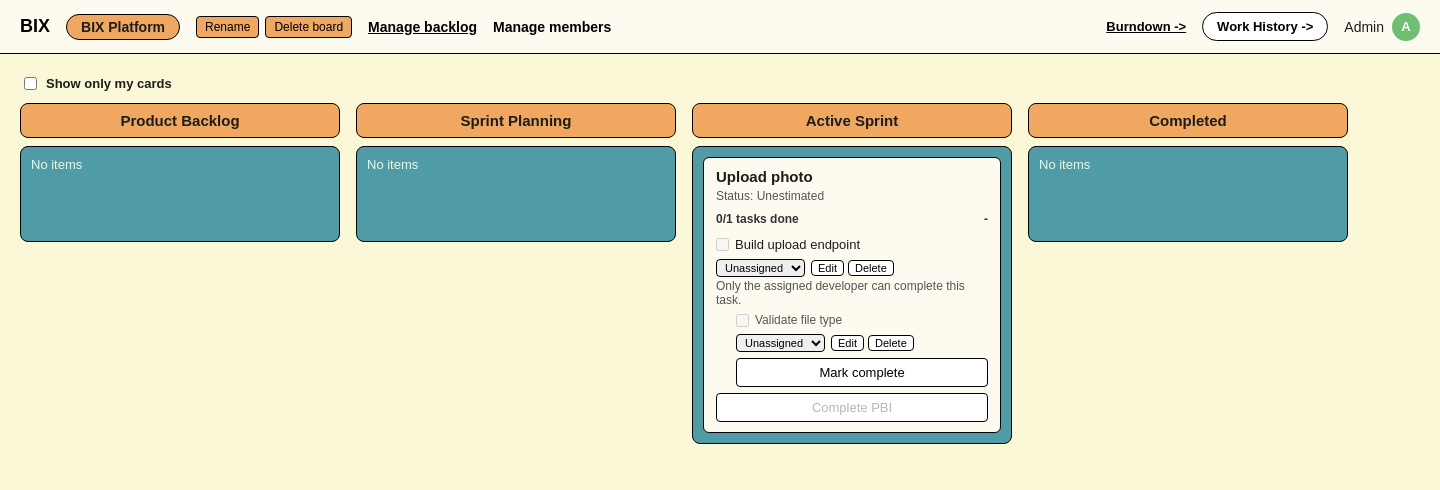
Test case: Board page - delete the board (US-04c) › hides Delete board while renaming, and brings it back on Cancel
Expected: the text "BIX Platform" is shown, left=66, top=14, right=180, bottom=40
Click the button "Rename" at (228, 26), box left=196, top=16, right=259, bottom=38
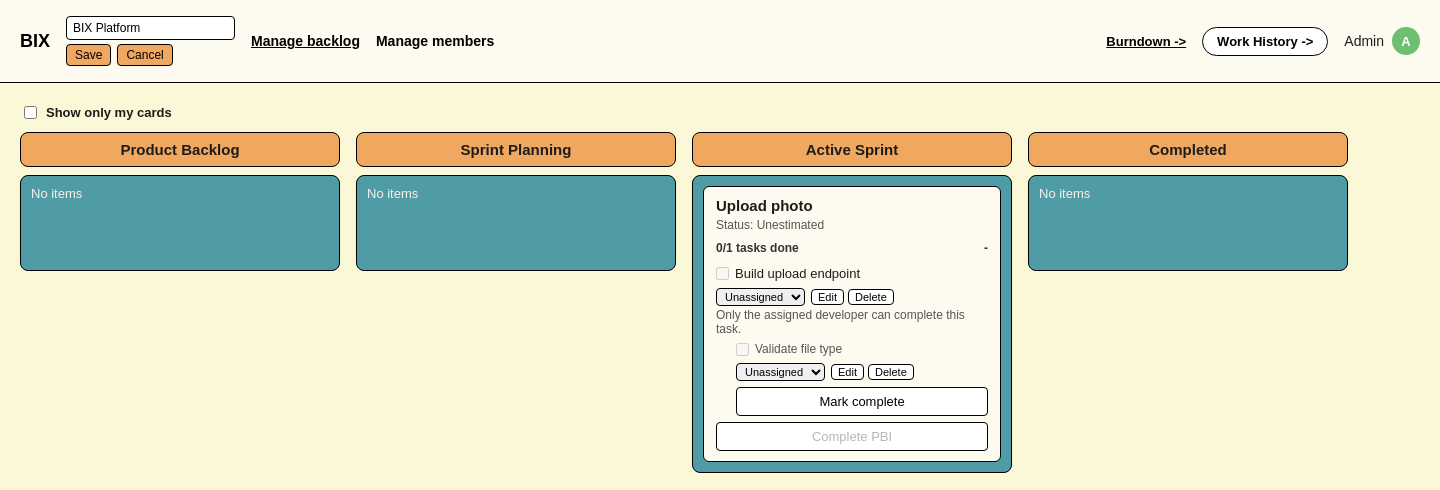
Expected: the button "Delete board" is gone
Expected: the field named "Project name" is shown, left=66, top=16, right=235, bottom=40
Click the button "Cancel" at (145, 55), box left=117, top=44, right=173, bottom=66
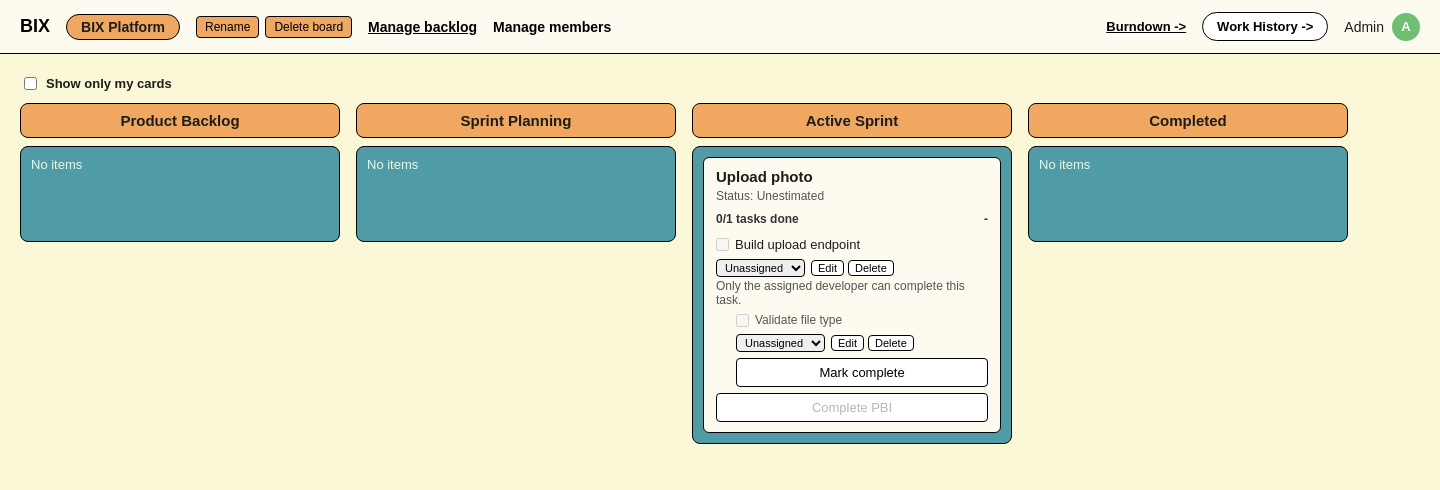
Expected: the button "Delete board" is shown, left=265, top=16, right=352, bottom=38
